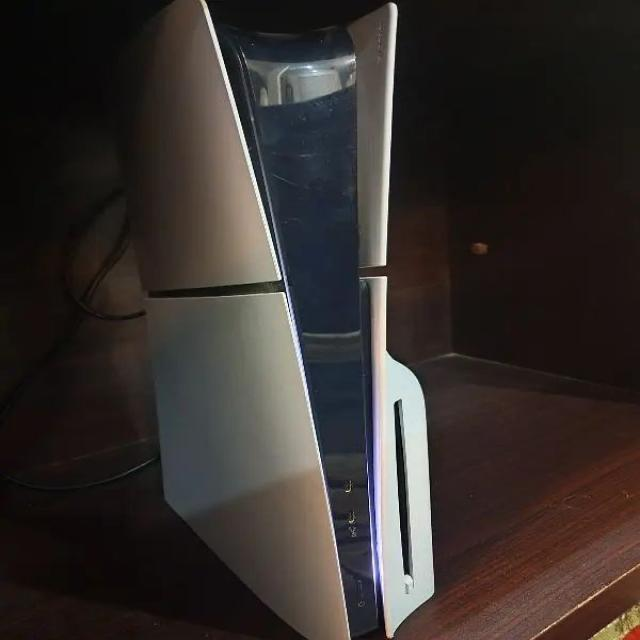electronic: (126, 0, 437, 639)
